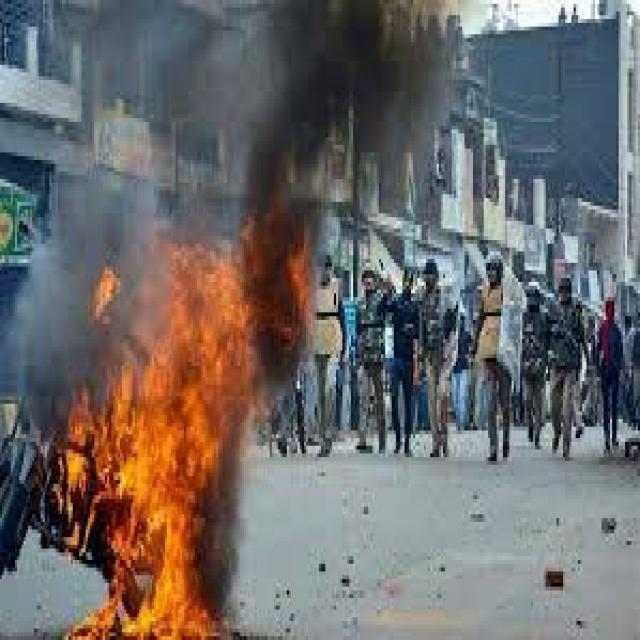Fire: (66, 244, 257, 640), (241, 211, 310, 351)
Smoke: (208, 0, 446, 205), (14, 244, 67, 416), (61, 168, 155, 252), (198, 482, 242, 608)
